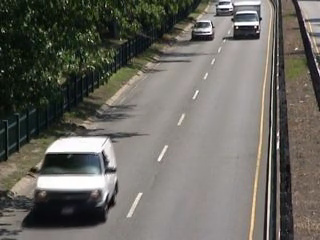car: (189, 19, 216, 42), (215, 1, 234, 16)
truck: (29, 134, 122, 223), (233, 1, 264, 42)
